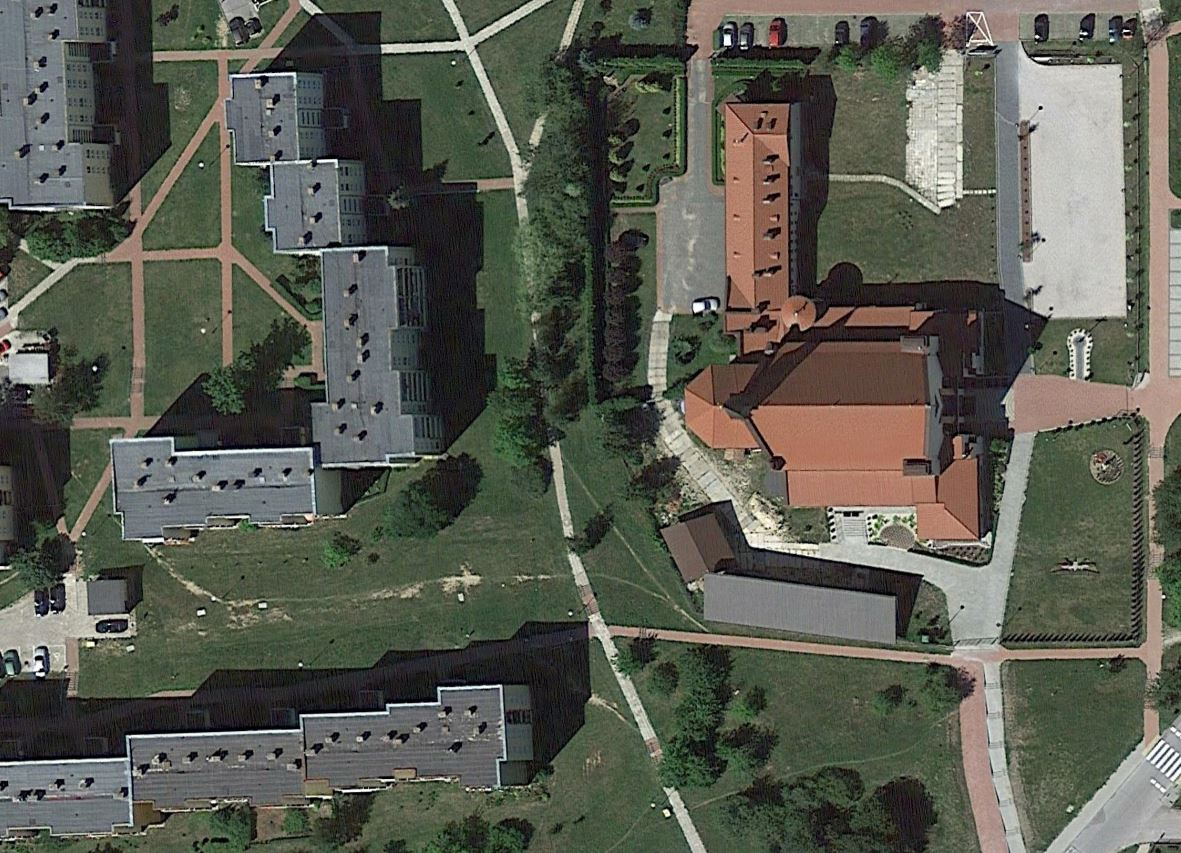block of flats: (103, 32, 450, 559), (1, 667, 552, 849), (710, 92, 820, 371), (1, 3, 138, 227)
church: (664, 275, 1005, 555)
garage: (678, 563, 916, 660)
